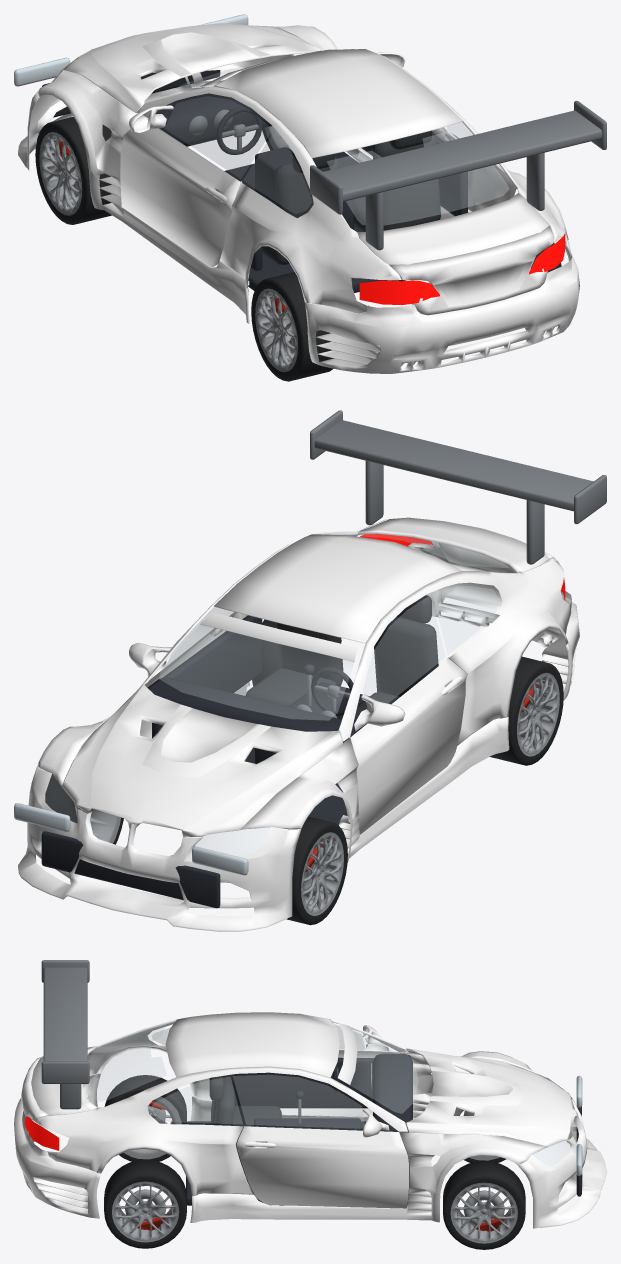
The model's file is m3-remote.glb.
The picture shows the model from 3 angles, top to bottom: view 1: azimuth 30°, elevation 25°; view 2: azimuth 150°, elevation 25°; view 3: azimuth 270°, elevation 25°; orthographic projection. The views are drawn at different scales.
Visible parts, largest first — view 1: XZ_body, XZ_glass, GeneratedRearWing, WheelMeshWheelRearL, WheelMeshWheelFrontL, GeneratedBucketSeatBack.001, GeneratedDashboard, GeneratedRearLamp, GeneratedBucketSeatBack, GeneratedFloor, GeneratedConsole, GeneratedDoorPanel.001 (+8 smaller); view 2: XZ_body, XZ_glass, GeneratedRearWing, WheelMeshWheelRearL, WheelMeshWheelFrontL, GeneratedDashboard, GeneratedFrontRadiator, GeneratedDoorPanel.001, GeneratedBucketSeatBack, GeneratedBucketSeatBack.001, WheelMeshWheelFrontR, GeneratedBucketSeatBase.001 (+8 smaller); view 3: XZ_body, XZ_glass, WheelMeshWheelRearR, WheelMeshWheelFrontR, GeneratedDoorPanel, GeneratedRearWing, GeneratedDashboard, WheelMeshWheelRearL, GeneratedConsole, GeneratedWingEndplate.001, GeneratedBucketSeatBase, GeneratedBucketSeatBack.001 (+3 smaller).
Boxes of the visible parts, left/top/right/bottom form: XZ_body: left=18, top=23, right=579, bottom=373; XZ_glass: left=51, top=63, right=508, bottom=225; GeneratedRearWing: left=323, top=110, right=602, bottom=201; WheelMeshWheelRearL: left=251, top=272, right=333, bottom=381; WheelMeshWheelFrontL: left=35, top=117, right=111, bottom=224; GeneratedBucketSeatBack.001: left=372, top=132, right=440, bottom=230; GeneratedDashboard: left=155, top=93, right=271, bottom=146; GeneratedRearLamp: left=359, top=280, right=439, bottom=305; GeneratedBucketSeatBack: left=275, top=156, right=342, bottom=257; GeneratedFloor: left=224, top=152, right=405, bottom=292; GeneratedConsole: left=255, top=147, right=353, bottom=229; GeneratedDoorPanel.001: left=361, top=133, right=467, bottom=216; XZ_body: left=18, top=517, right=579, bottom=931; XZ_glass: left=45, top=531, right=508, bottom=854; GeneratedRearWing: left=314, top=420, right=593, bottom=511; WheelMeshWheelRearL: left=489, top=656, right=563, bottom=765; WheelMeshWheelFrontL: left=281, top=816, right=347, bottom=925; GeneratedDashboard: left=147, top=677, right=358, bottom=742; GeneratedFrontRadiator: left=41, top=831, right=220, bottom=908; GeneratedDoorPanel.001: left=152, top=615, right=262, bottom=738; GeneratedBucketSeatBack: left=374, top=617, right=438, bottom=696; GeneratedBucketSeatBack.001: left=276, top=622, right=343, bottom=686; WheelMeshWheelFrontR: left=45, top=760, right=123, bottom=844; GeneratedBucketSeatBase.001: left=245, top=668, right=336, bottom=706; XZ_body: left=14, top=1012, right=606, bottom=1228; XZ_glass: left=88, top=1024, right=570, bottom=1166; WheelMeshWheelRearR: left=104, top=1159, right=186, bottom=1248; WheelMeshWheelFrontR: left=443, top=1161, right=525, bottom=1249; GeneratedDoorPanel: left=233, top=1058, right=374, bottom=1108; GeneratedRearWing: left=43, top=967, right=87, bottom=1060; GeneratedDashboard: left=373, top=1053, right=412, bottom=1149; WheelMeshWheelRearL: left=104, top=1075, right=186, bottom=1161; GeneratedConsole: left=254, top=1118, right=360, bottom=1130; GeneratedWingEndplate.001: left=41, top=1061, right=89, bottom=1083; GeneratedBucketSeatBase: left=232, top=1106, right=281, bottom=1136; GeneratedBucketSeatBack.001: left=214, top=1083, right=234, bottom=1125.
Bounding box in the file's own units: 1.98 × 1.66 × 4.71.
